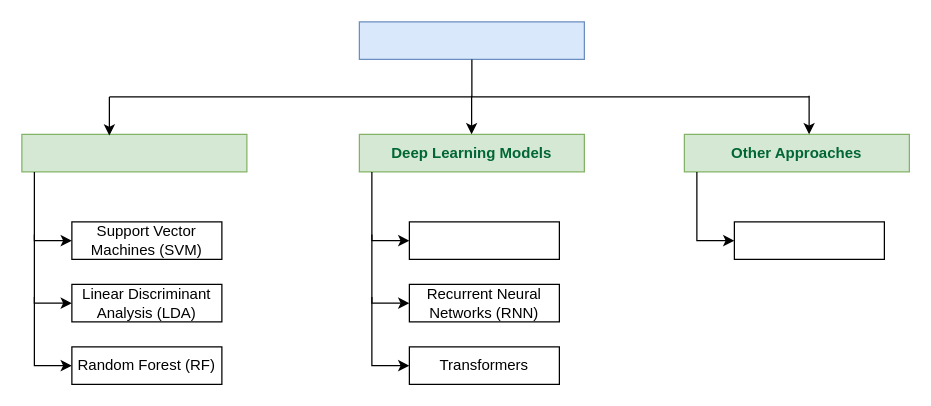
This 931x406 diagram has some shape labels left out. The shapes that lost their labels are listed below. From the top down, each one's centre as x and y in pixels, then its label:
[471,40]: Classification Approaches
[134,152]: Traditional Machine Learning Models
[483,240]: Convolutional Neural Networks (CNN)
[808,240]: Hybrid CNN-Transformer Models
